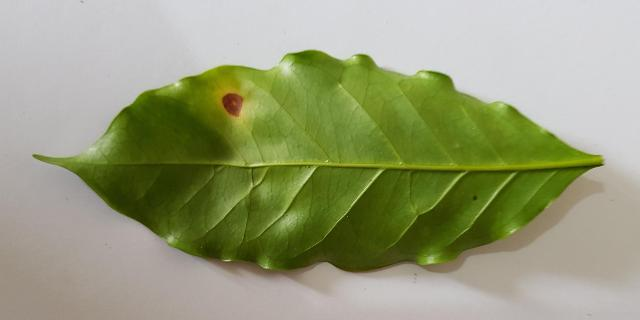phoma: (220, 90, 245, 119)
